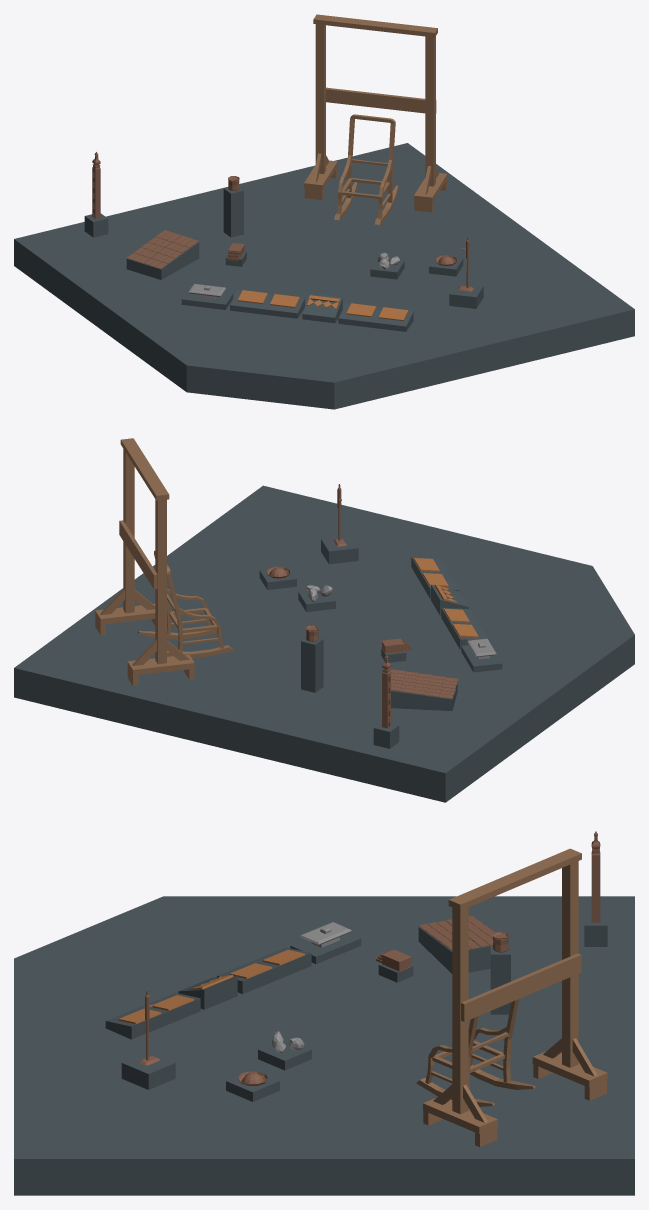
File: Etalase_5.fbx
3 views of the same model, one above another, from view 1: azimuth 30°, elevation 25°; view 2: azimuth 150°, elevation 25°; view 3: azimuth 270°, elevation 25° (orthographic). The views are drawn at different scales.
Parts seen in each view (by area): view 1: E5 Fondasi, E5 Gayor Bedhug, E5 Kursi goyang kuno, E5 Genteng Sirap; view 2: E5 Fondasi, E5 Gayor Bedhug, E5 Kursi goyang kuno, E5 Genteng Sirap, E5 Kayu Pagar Pacak Suci; view 3: E5 Fondasi, E5 Gayor Bedhug, E5 Kursi goyang kuno, E5 Genteng Sirap, E5 Kayu Pagar Pacak Suci, E5 Pipisan, E5 Kotak Botekan.
Part boxes in pixels (bbox=[...]): E5 Fondasi: bbox=[14, 143, 634, 409]; E5 Gayor Bedhug: bbox=[304, 14, 447, 212]; E5 Kursi goyang kuno: bbox=[334, 114, 398, 224]; E5 Genteng Sirap: bbox=[127, 230, 198, 268]; E5 Fondasi: bbox=[14, 485, 634, 802]; E5 Gayor Bedhug: bbox=[95, 438, 194, 685]; E5 Kursi goyang kuno: bbox=[138, 550, 233, 658]; E5 Genteng Sirap: bbox=[390, 669, 458, 698]; E5 Kayu Pagar Pacak Suci: bbox=[382, 655, 390, 728]; E5 Fondasi: bbox=[14, 896, 634, 1195]; E5 Gayor Bedhug: bbox=[423, 848, 607, 1146]; E5 Kursi goyang kuno: bbox=[416, 999, 535, 1106]; E5 Genteng Sirap: bbox=[418, 915, 494, 950]; E5 Kayu Pagar Pacak Suci: bbox=[591, 831, 600, 922]; E5 Pipisan: bbox=[300, 922, 351, 947]; E5 Kotak Botekan: bbox=[375, 949, 411, 971].
Bounding box in the file's own units: 500 × 239 × 500.
